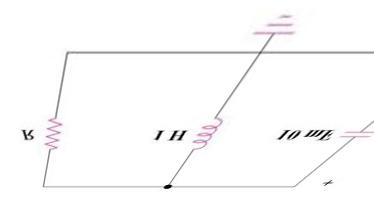inductor: (183, 109, 236, 156)
